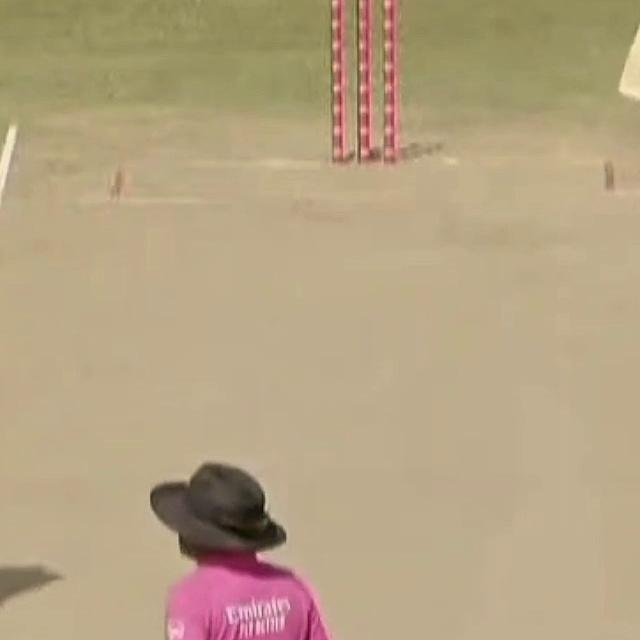umpire: (95, 450, 413, 640), (105, 460, 400, 640)
